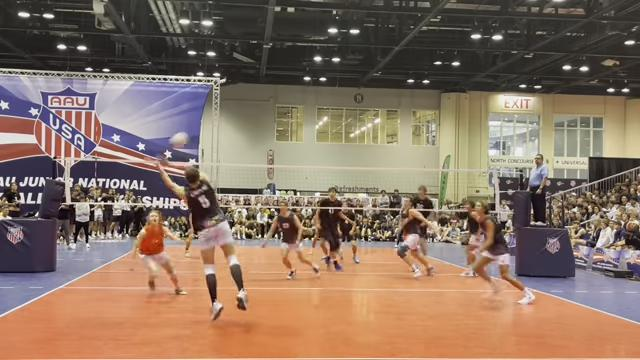Dig: (155, 152, 262, 324)
Player: (472, 202, 534, 304), (132, 209, 186, 294), (262, 200, 318, 279), (314, 187, 354, 270), (397, 198, 437, 276), (461, 201, 482, 276), (340, 208, 359, 263), (412, 185, 433, 218), (309, 229, 328, 257), (184, 214, 194, 257)
ball: (166, 132, 190, 150)
